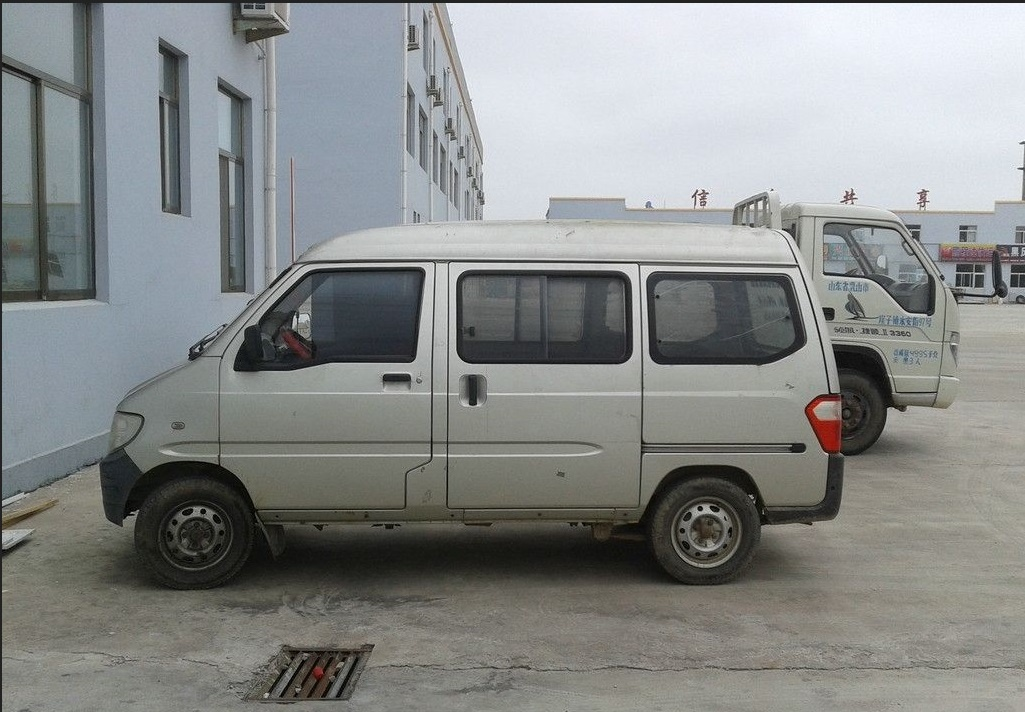minibus: (113, 211, 844, 575)
